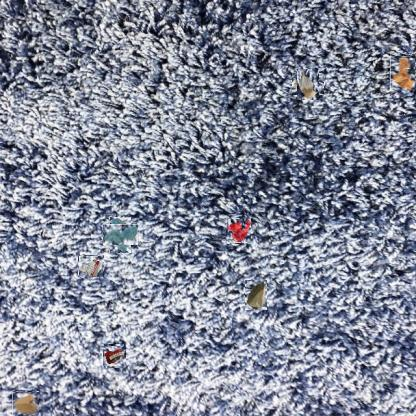dirty: (390, 55, 415, 91), (295, 70, 321, 98), (245, 280, 267, 310), (12, 391, 39, 415), (78, 255, 104, 277), (103, 346, 125, 368)
liquid: (106, 221, 135, 249), (226, 218, 250, 244)
